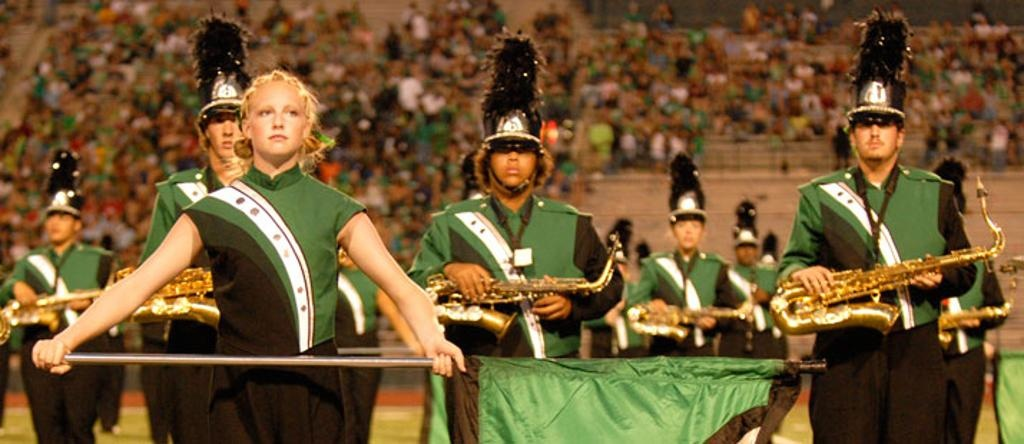human_face: (250, 86, 304, 154), (490, 128, 536, 184), (854, 100, 896, 158), (208, 100, 246, 160), (674, 209, 700, 247), (48, 205, 74, 241), (738, 237, 754, 263)
